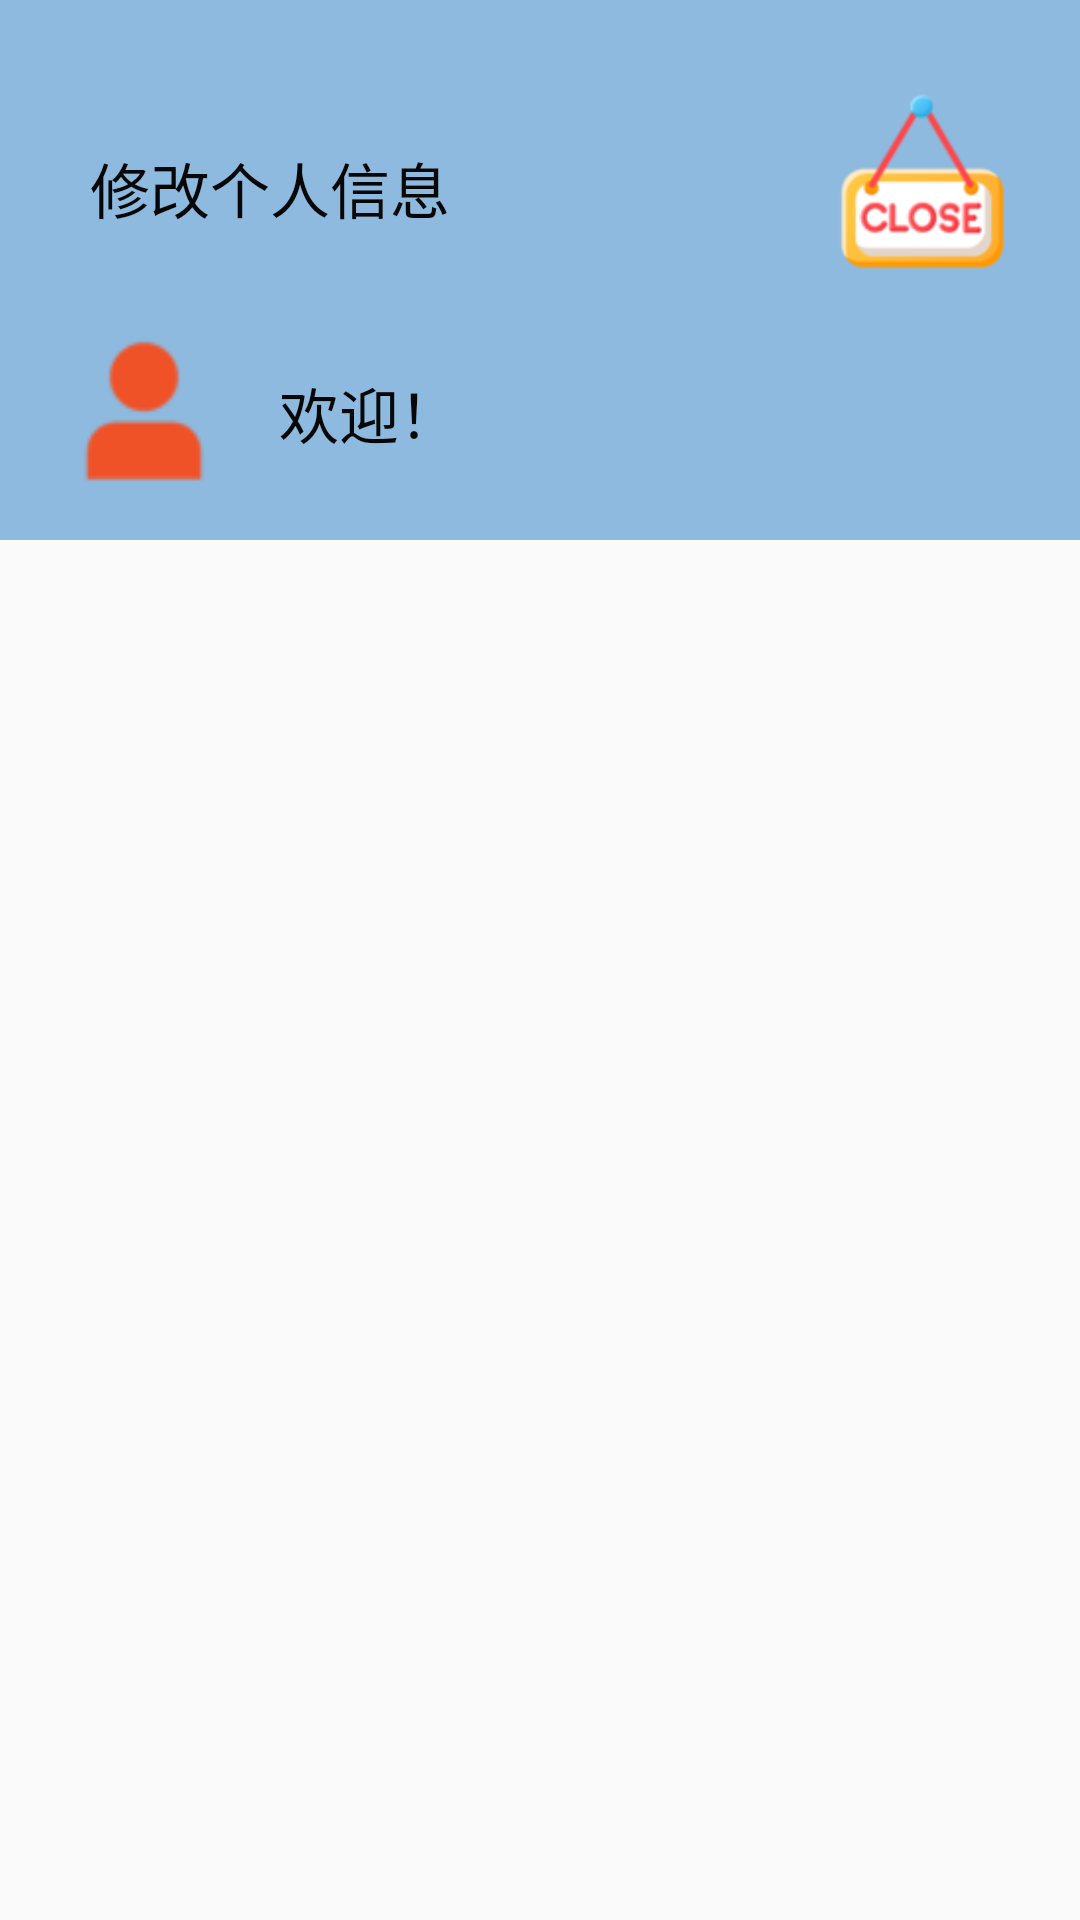

Where icons sit on this 1080x1920 app screen, as (left=x1, top=y1, right=x2, bottom=y2):
user: (left=85, top=341, right=203, bottom=481)
